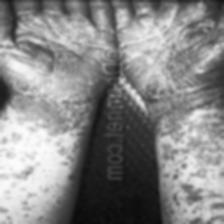Non-Cancerous Skin Condition: (114, 0, 224, 224), (0, 0, 98, 224)
